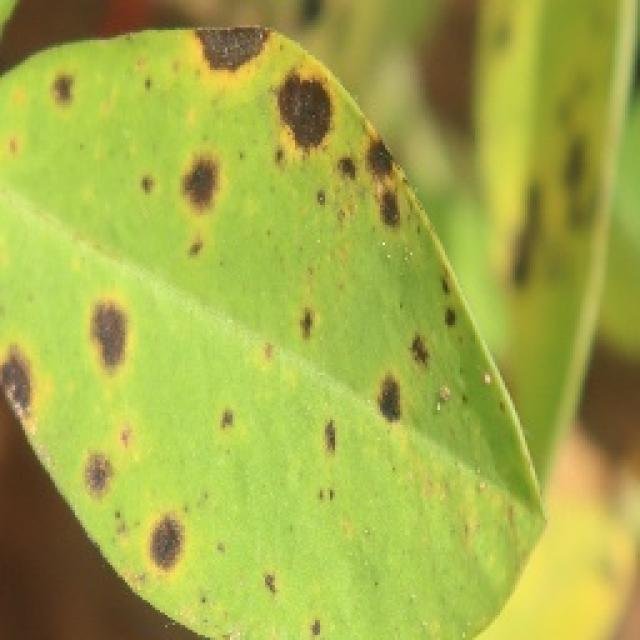Yellowish: (0, 0, 575, 605)
